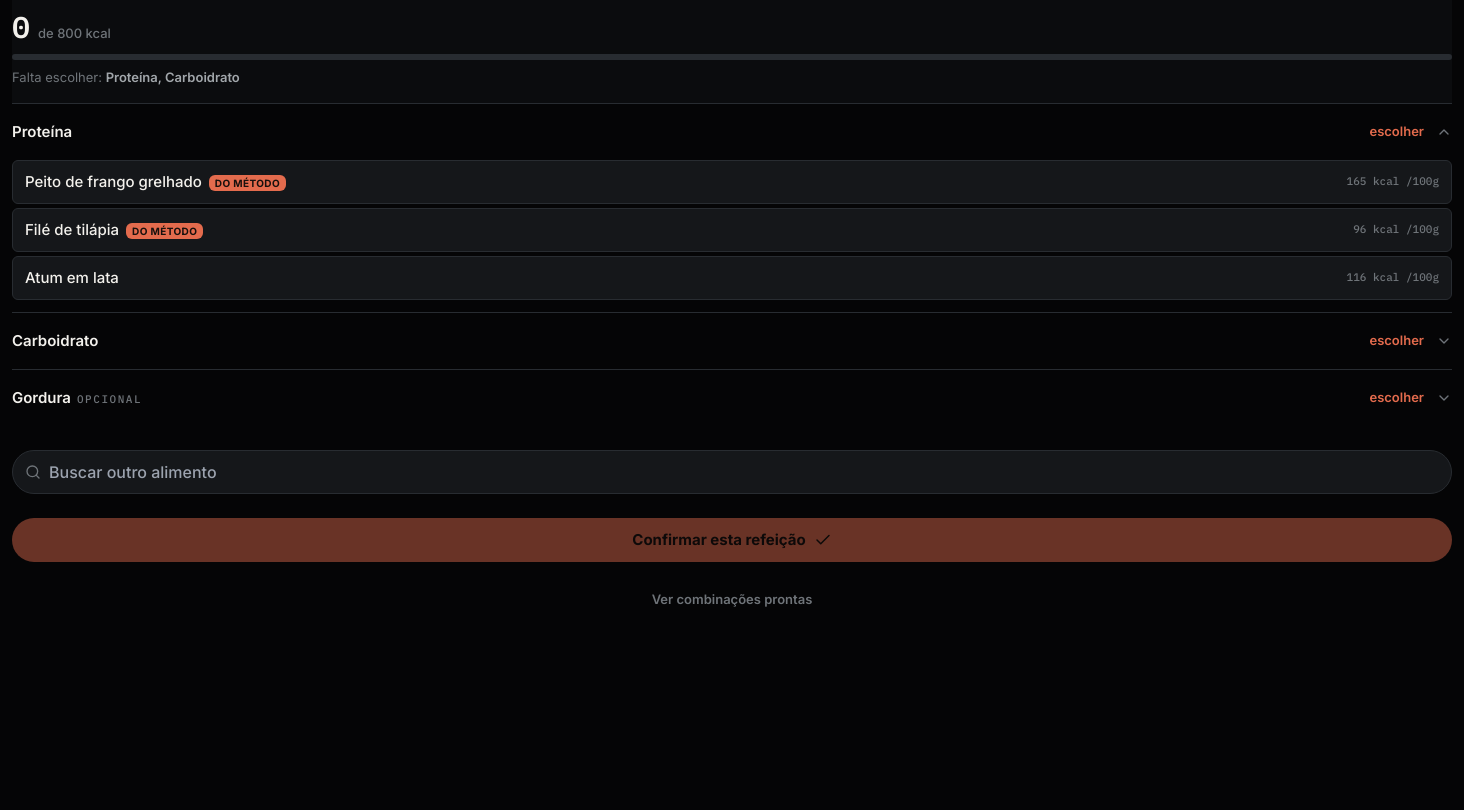
Test: confirmar so liga quando nada mais falta
Expected: the button with test id "confirmar-montagem" is disabled, [12, 518, 1452, 562]
Click the button with test id "opcao-chicken-breast" at (113, 182), box [12, 160, 1452, 204]
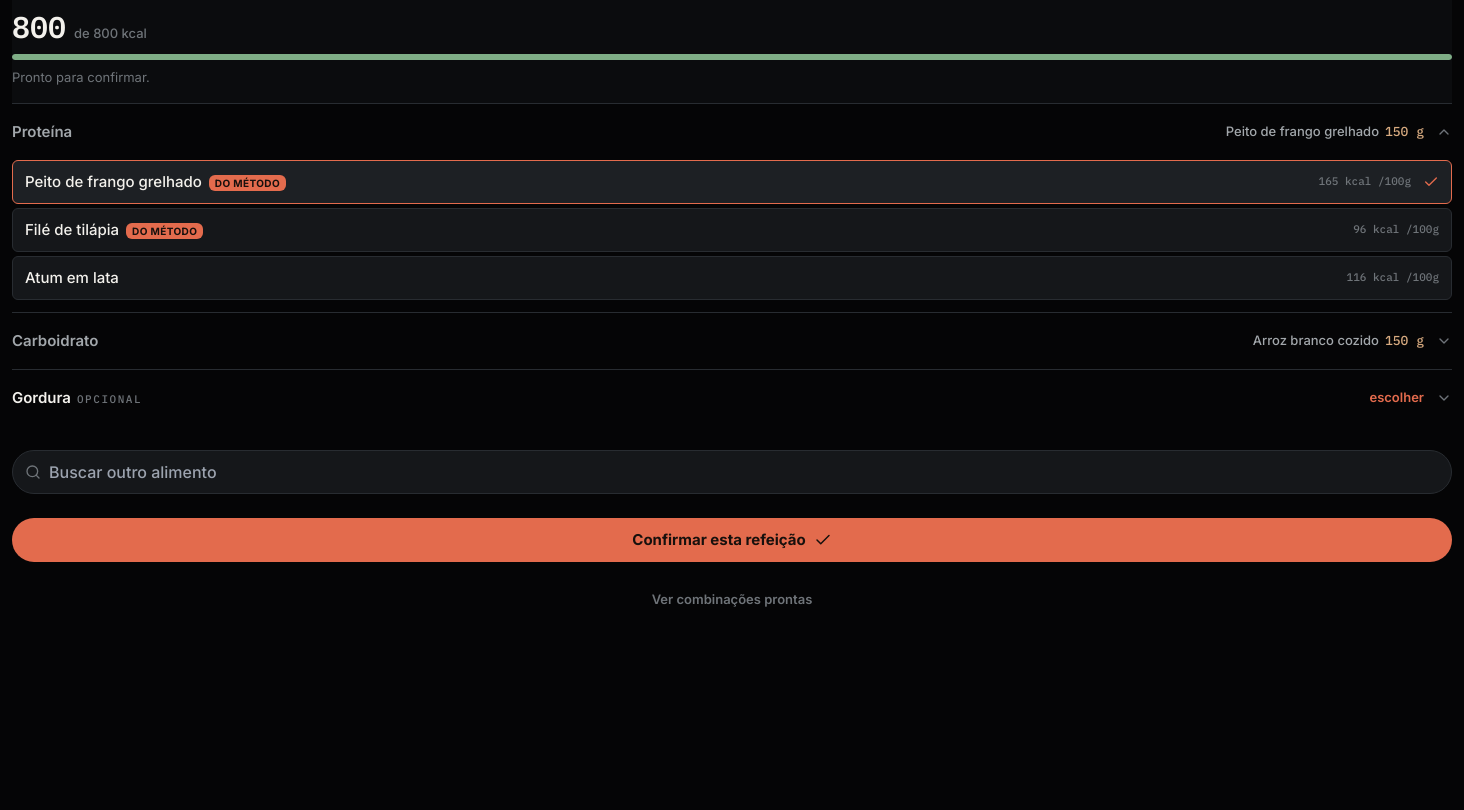
Now the button with test id "confirmar-montagem" is enabled, box [12, 518, 1452, 562]
Now the text "Pronto para confirmar" is shown, box [12, 69, 150, 85]
